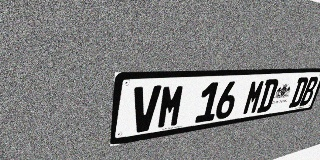1: (195, 82, 222, 123)
6: (214, 81, 240, 120)
B: (299, 76, 319, 106)
D: (256, 79, 280, 113), (288, 77, 309, 108)
M: (156, 84, 186, 129), (242, 79, 266, 115)
V: (130, 85, 162, 134)
